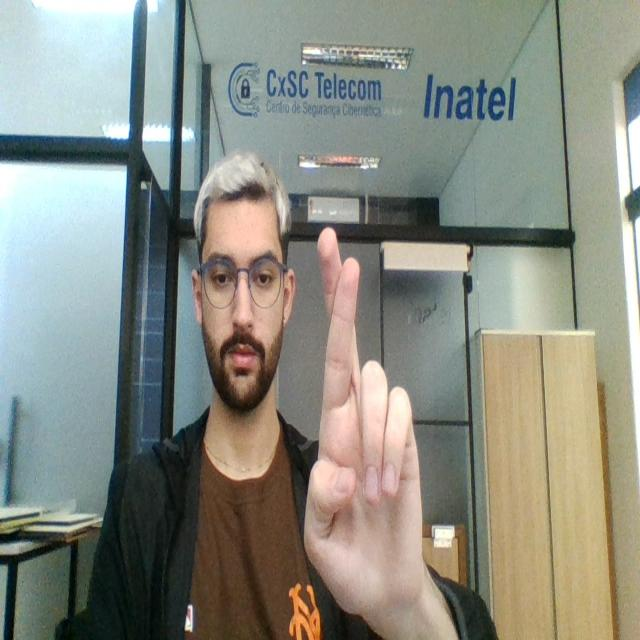R: (302, 226, 429, 604)
